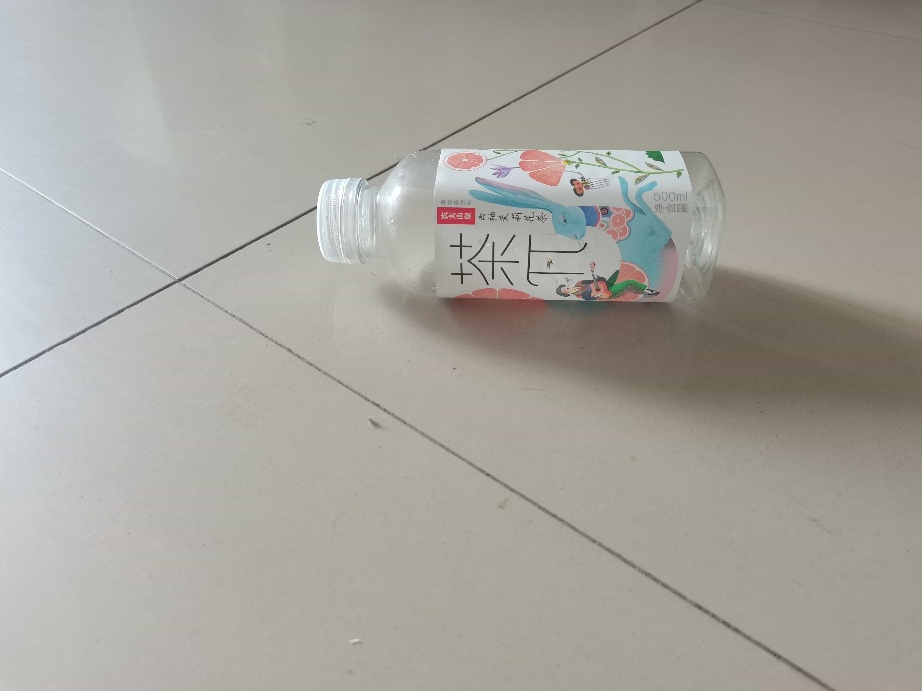plastic bottle: (309, 140, 736, 316)
